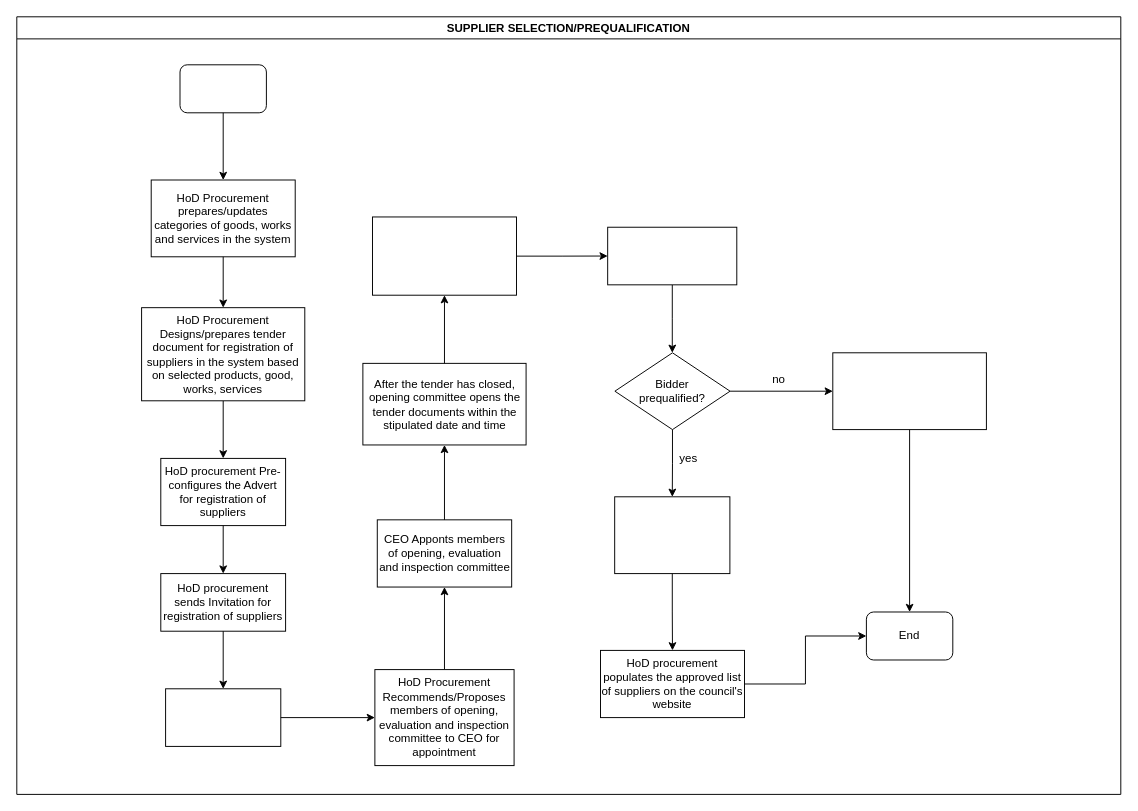
The diagram is 1138 pixels wide and 811 high, and some of its shapes have lost their labels. The shapes that lost their labels are listed below. From the top down, each one's centre as x and y in pixels, then its label:
the point at 222,88: Start
the point at 444,255: Evaluation committee evaluates tender documents within stipulated timelines
the point at 672,255: HoD procurement Prepares professional opinion
the point at 909,391: CEO sends Notification of Debriefing
the point at 672,535: CEO sends Notification of awards
the point at 223,717: Procurement officer Receives tender documents/E tendering
